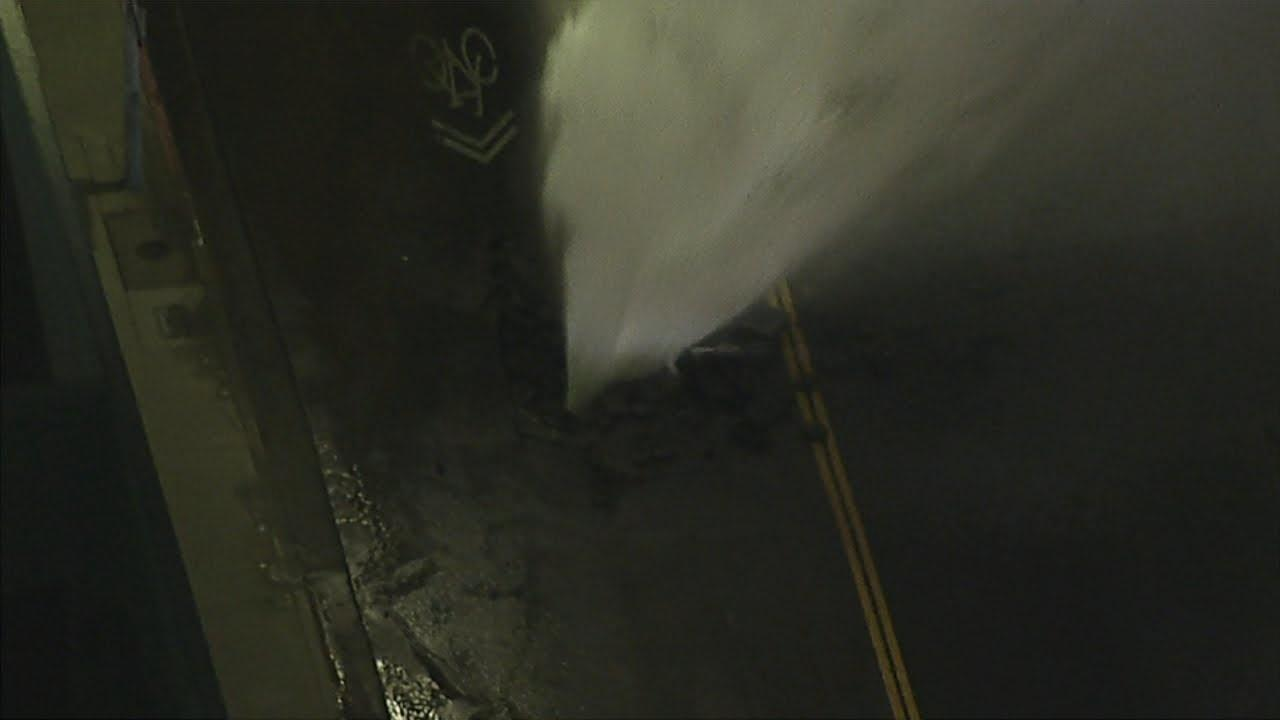pipe burst: (541, 0, 1149, 419)
